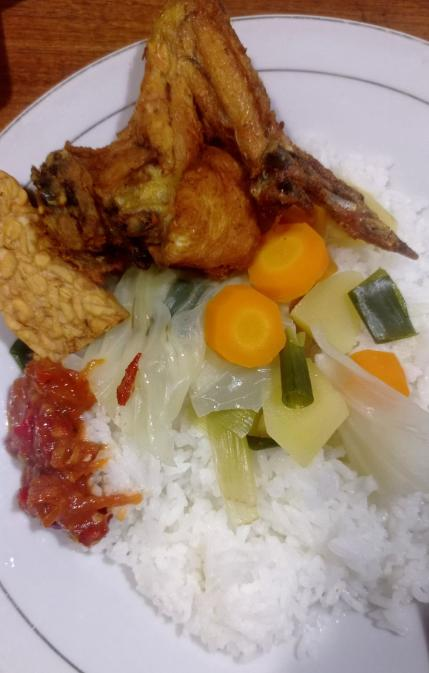buah_sayur_vitA: (20, 389, 77, 503), (220, 299, 276, 369), (270, 235, 305, 295)
daging: (140, 59, 255, 248)
kacang_legume: (14, 270, 80, 340)
makanan_berpati: (197, 519, 349, 624)
